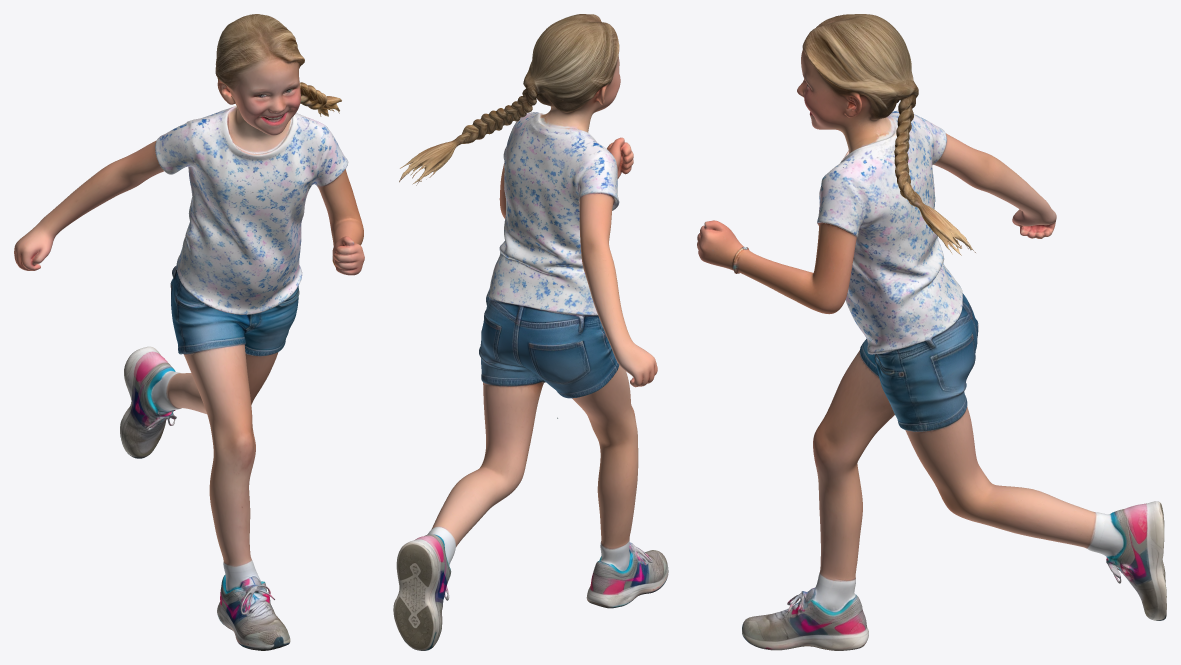
File: joyful_run.glb
3 views of the same model, side by side, from view 1: azimuth 30°, elevation 25°; view 2: azimuth 150°, elevation 25°; view 3: azimuth 270°, elevation 25° (orthographic). The views are drawn at different scales.
Visible parts, largest first — view 1: Object_5, Object_6; view 2: Object_6, Object_5; view 3: Object_5, Object_6.
Part boxes in pixels (bbox=[...]): Object_5: bbox=[130, 14, 364, 650]; Object_6: bbox=[14, 14, 340, 458]; Object_6: bbox=[393, 16, 657, 650]; Object_5: bbox=[400, 14, 668, 608]; Object_5: bbox=[697, 14, 977, 650]; Object_6: bbox=[831, 14, 1166, 620].
Size of the model in its own units: 0.98 by 1.9 by 1.26.
1 material, 1 textured.
